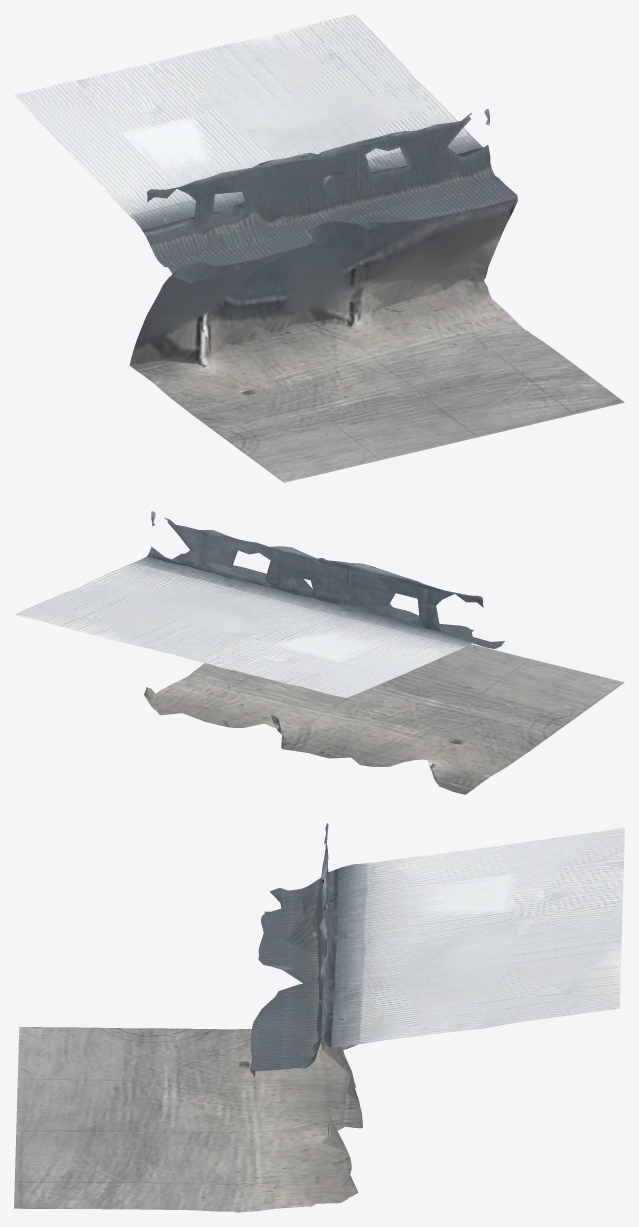
The model's file is Tile_+006_+003_L21_0uuuu221.glb.
The picture shows the model from 3 angles, top to bottom: view 1: azimuth 30°, elevation 25°; view 2: azimuth 150°, elevation 25°; view 3: azimuth 270°, elevation 25°; orthographic projection. The views are drawn at different scales.
Visible parts, largest first — view 1: rtc; view 2: rtc; view 3: rtc.
Boxes of the visible parts, x1,y1,x2,y2 form: rtc: [14, 14, 624, 482]; rtc: [14, 511, 624, 794]; rtc: [14, 823, 624, 1212].
Bounding box in the file's own units: 17.93 × 9.64 × 25.1.
Materials: 1 (1 with a texture image).
